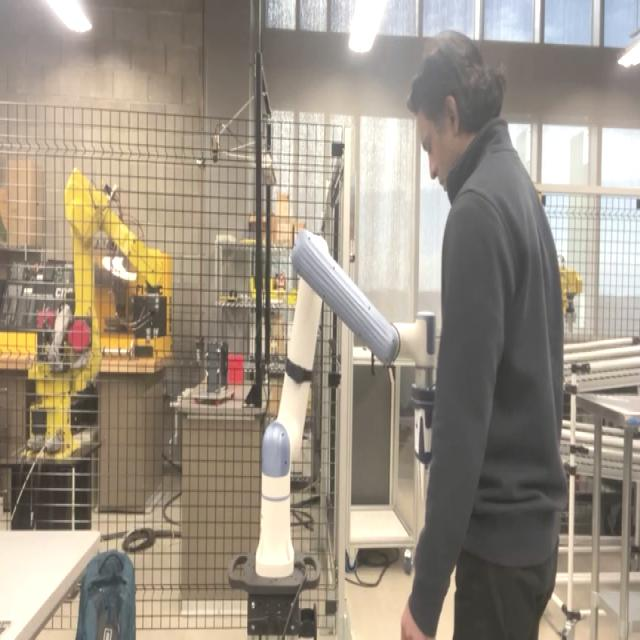robot: (251, 211, 443, 586)
